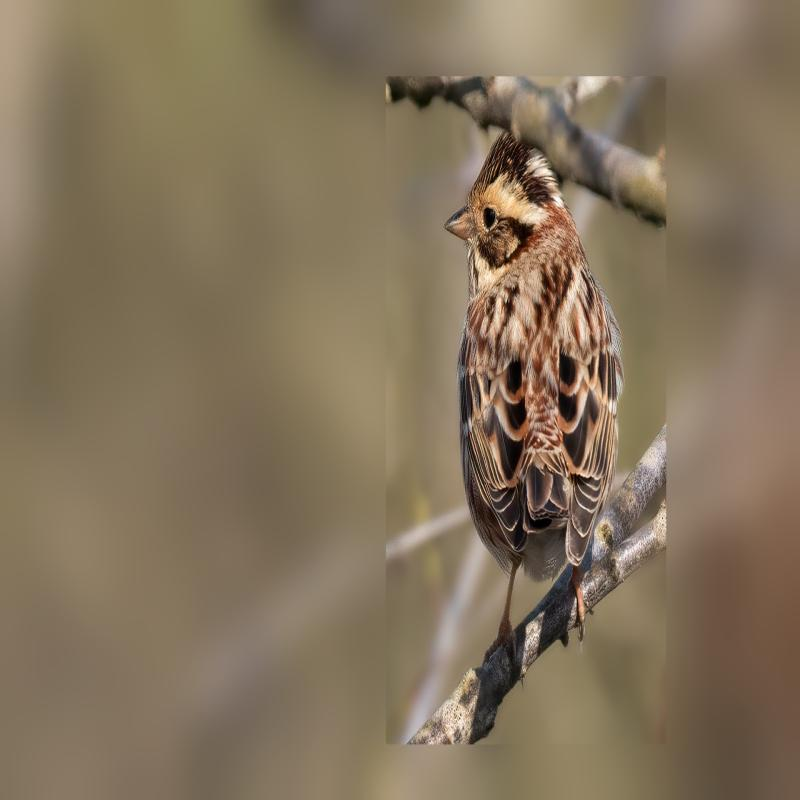rustic bunting: (441, 128, 624, 665)
